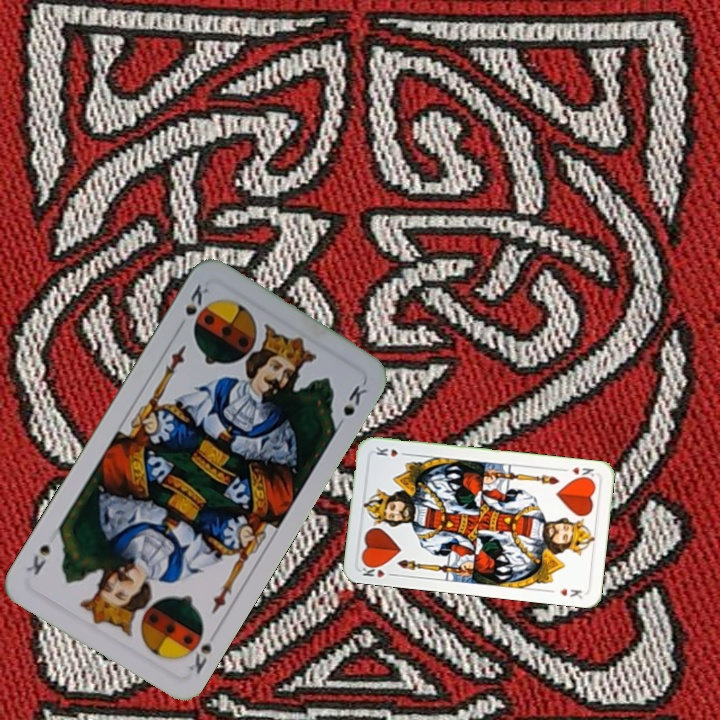HK: (358, 559, 398, 580), (558, 463, 596, 483)
SK: (173, 280, 212, 333), (180, 621, 215, 677)
